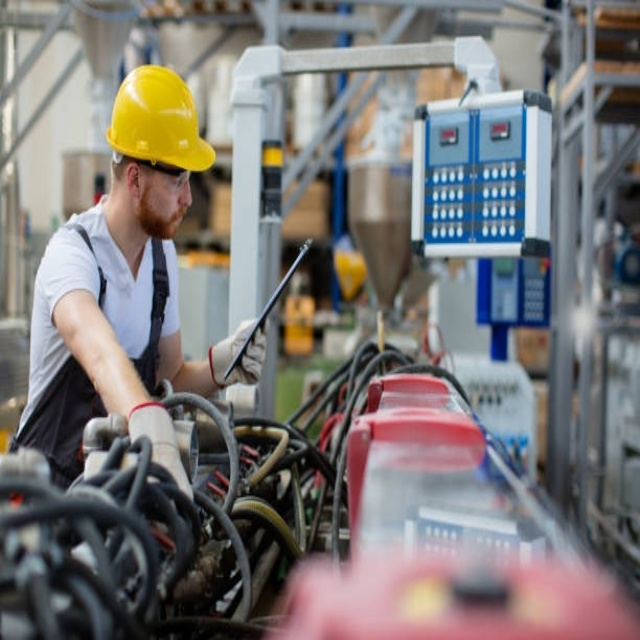Gafas: (127, 155, 192, 191)
Guantes: (127, 401, 193, 504), (207, 316, 269, 390)
Sin_mascara: (160, 204, 192, 234)
